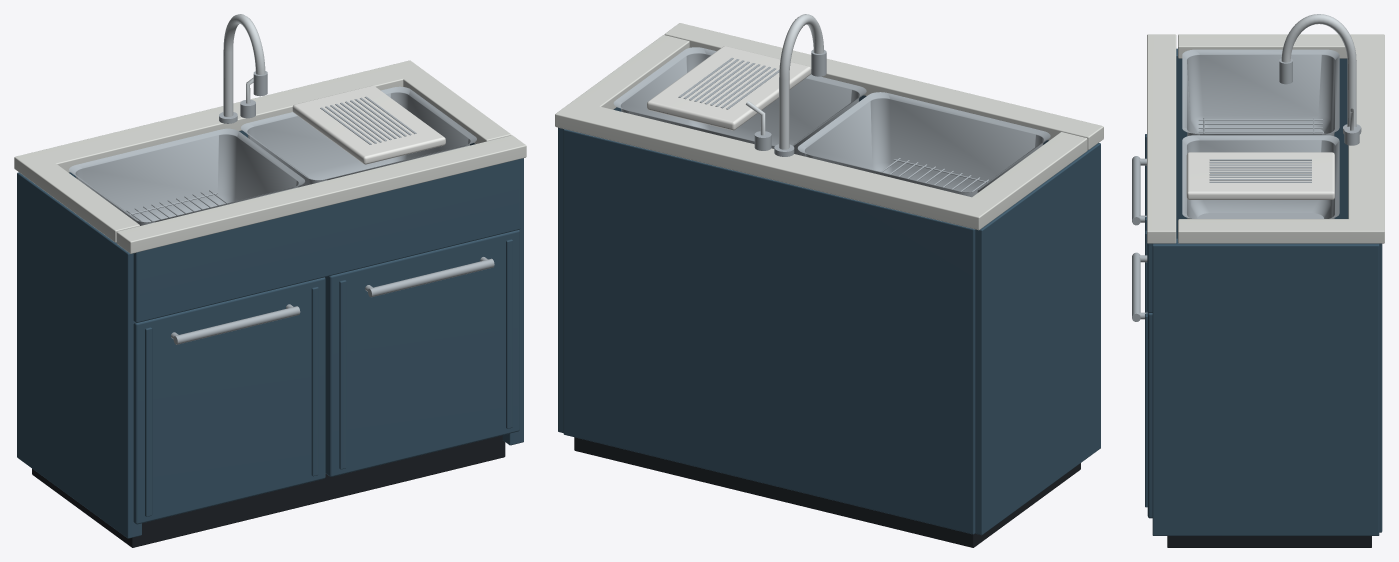
Rendered from luxury-double-workstation.glb.
3 views of the same model, side by side, from view 1: azimuth 30°, elevation 25°; view 2: azimuth 150°, elevation 25°; view 3: azimuth 270°, elevation 25° (orthographic). The views are drawn at different scales.
Visible parts, largest first — view 1: catalog_surface_RealismUV, catalog_surface_UVMap; view 2: catalog_surface_RealismUV, catalog_surface_UVMap; view 3: catalog_surface_RealismUV, catalog_surface_UVMap.
Part boxes in pixels (x1=…): catalog_surface_RealismUV: x1=17, y1=14, x2=523, y2=547; catalog_surface_UVMap: x1=14, y1=60, x2=526, y2=253; catalog_surface_RealismUV: x1=558, y1=14, x2=1100, y2=547; catalog_surface_UVMap: x1=555, y1=23, x2=1103, y2=230; catalog_surface_RealismUV: x1=1132, y1=14, x2=1382, y2=547; catalog_surface_UVMap: x1=1147, y1=34, x2=1384, y2=243.
Bounding box in the file's own units: 1.2 × 1.25 × 0.65.
